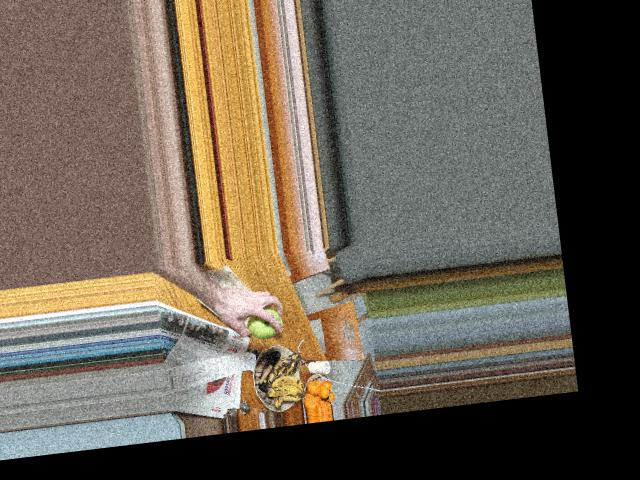apple: (244, 306, 280, 338)
